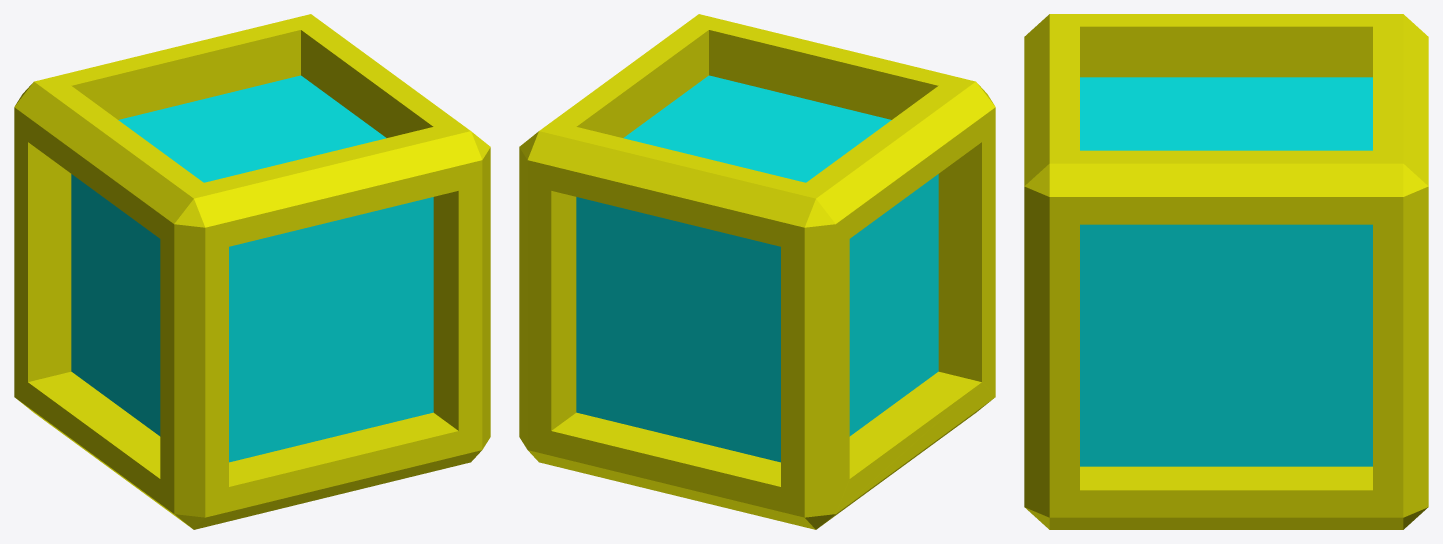
File: ItemBox_FBX.fbx
3 views of the same model, side by side, from view 1: azimuth 30°, elevation 25°; view 2: azimuth 150°, elevation 25°; view 3: azimuth 270°, elevation 25° (orthographic). The views are drawn at different scales.
Visible parts, largest first — view 1: pCube3; view 2: pCube3; view 3: pCube3.
Part boxes in pixels (x1=…): pCube3: x1=14, y1=14, x2=490, y2=529; pCube3: x1=519, y1=14, x2=995, y2=529; pCube3: x1=1024, y1=14, x2=1428, y2=529.
Size of the model in its own units: 4 by 4 by 4.
